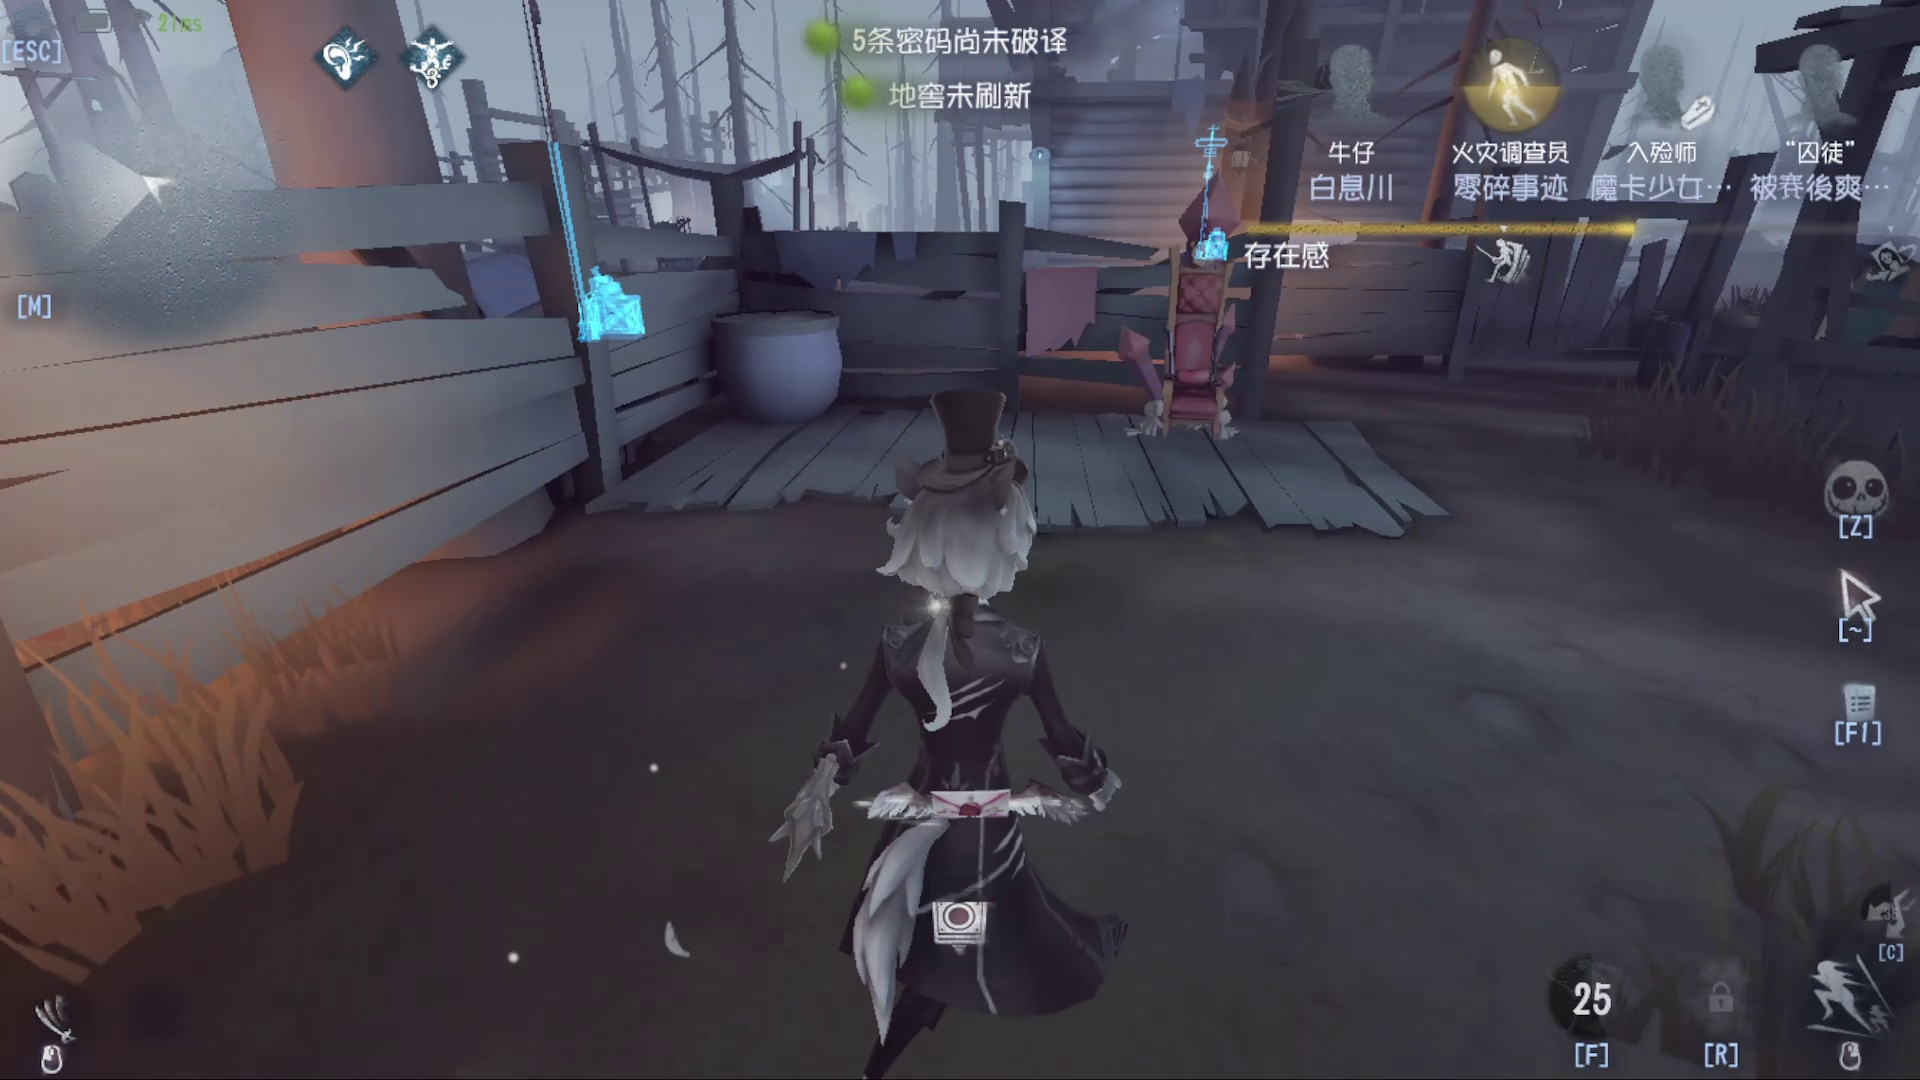密码机: (496, 104, 694, 353)
狂欢之椅: (1138, 171, 1251, 463)
